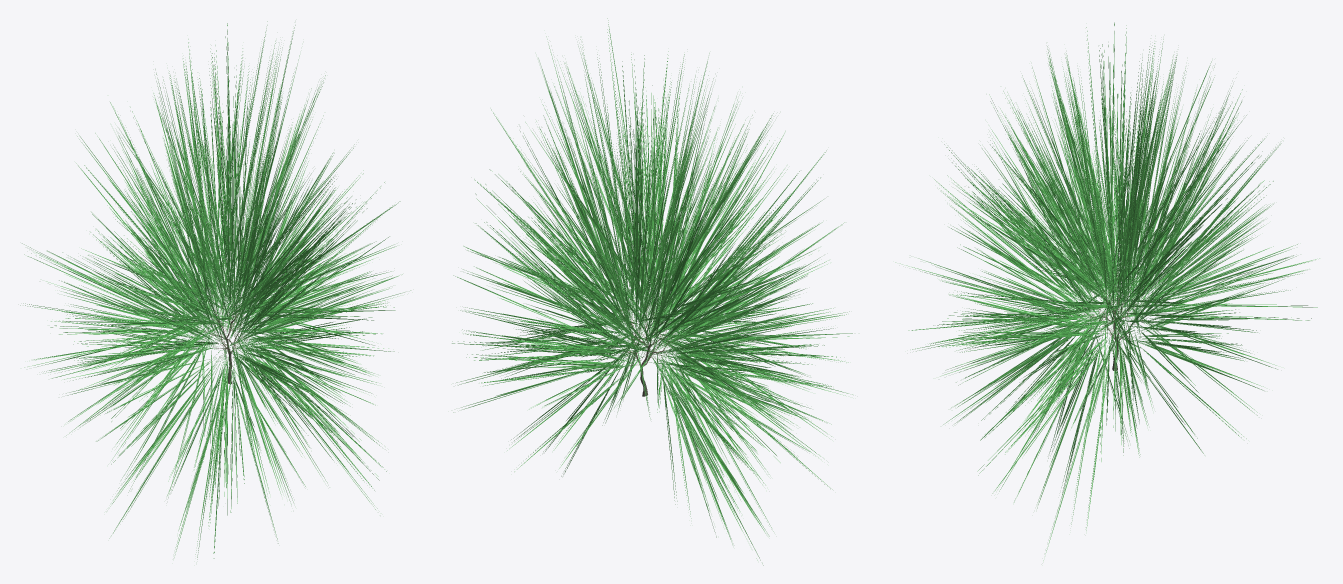
File: tree.fbx
3 renders of one model, left to right at view 1: azimuth 30°, elevation 25°; view 2: azimuth 150°, elevation 25°; view 3: azimuth 270°, elevation 25°, orthographic. The views are drawn at different scales.
Size of the model in its own units: 3881 by 5279 by 4130.
